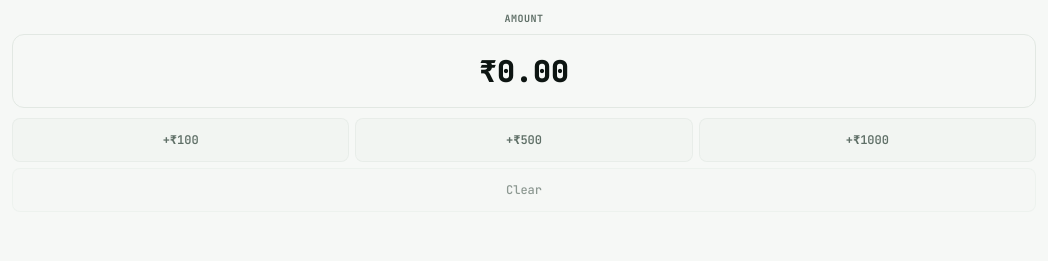
Test: AmountInput › commits a paise integer from a decimal amount and reports invalid input
The image size is (1048, 261).
Replace the text in the field labelled "Amount" with "20.5" at (524, 71), box 12,34 -> 1036,108
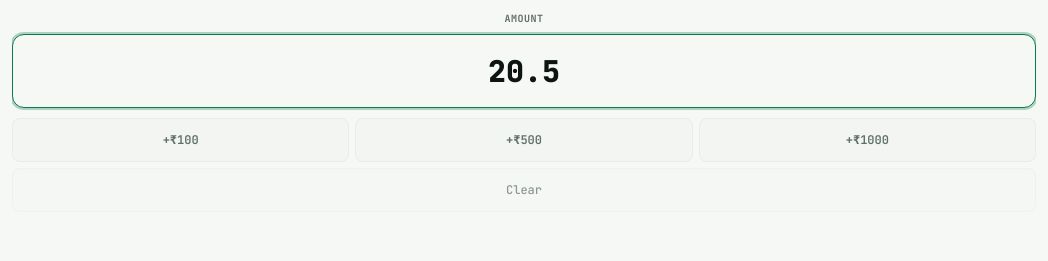
Press Tab
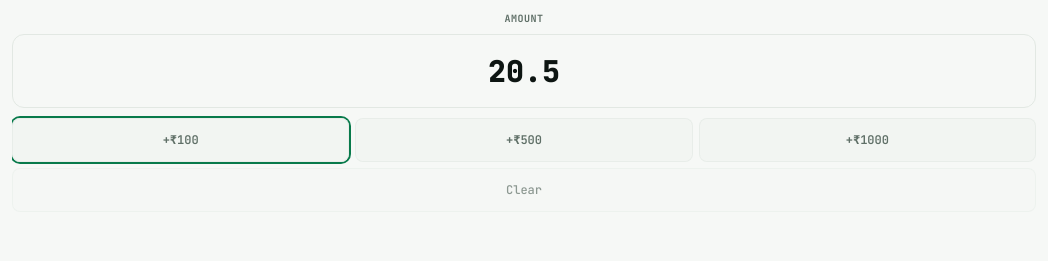
Replace the text in the field labelled "Amount" with "twenty" at (524, 71), box 12,34 -> 1036,108
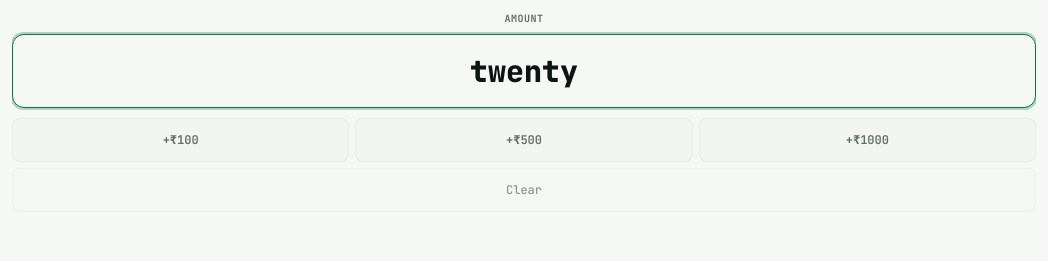
Press Tab
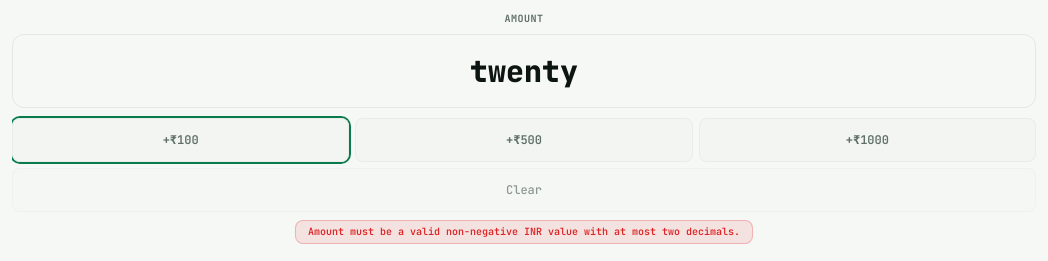
Check: the text "Amount must be a valid non-negative INR value with at most two decimals." is shown, box 295,220 -> 753,244
